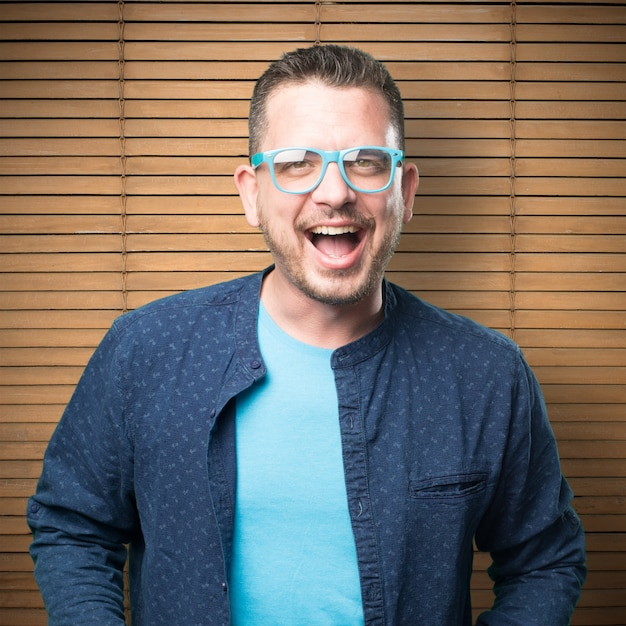young: (242, 35, 426, 294)
